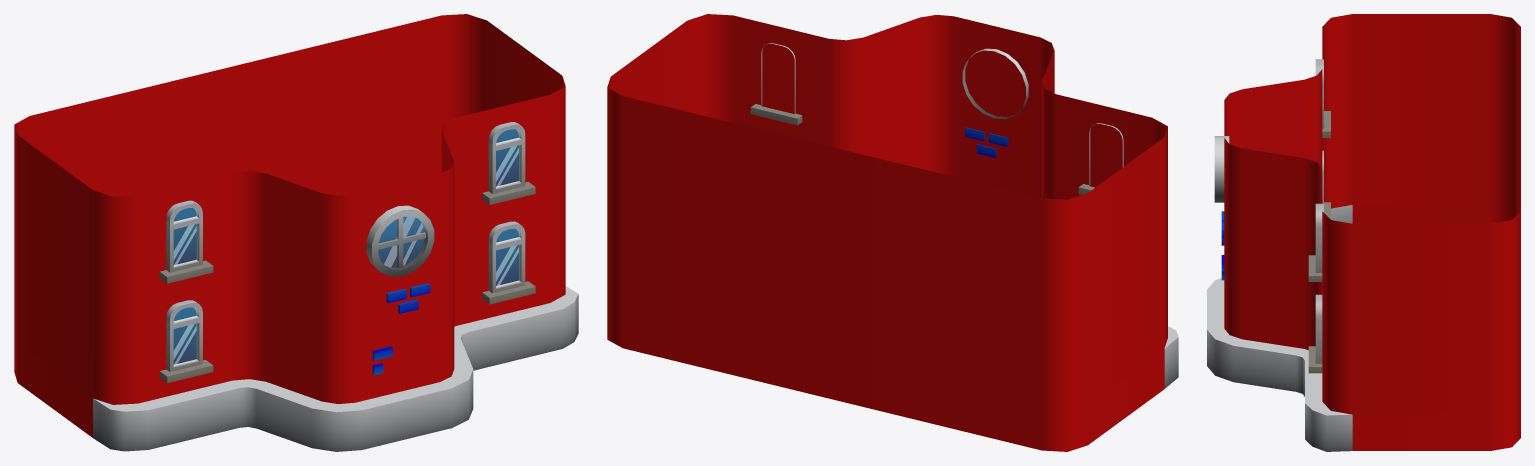
File: House 1 Floor.fbx
The picture shows the model from 3 angles, left to right: view 1: azimuth 30°, elevation 25°; view 2: azimuth 150°, elevation 25°; view 3: azimuth 270°, elevation 25°; orthographic projection. The views are drawn at different scales.
Visible parts, largest first — view 1: House3_floor; view 2: House3_floor; view 3: House3_floor.
Part boxes in pixels (<box>): House3_floor: <box>14,14,578,451</box>; House3_floor: <box>607,14,1178,451</box>; House3_floor: <box>1207,14,1520,451</box>.
Bounding box in the file's own units: 201 × 101 × 126.
